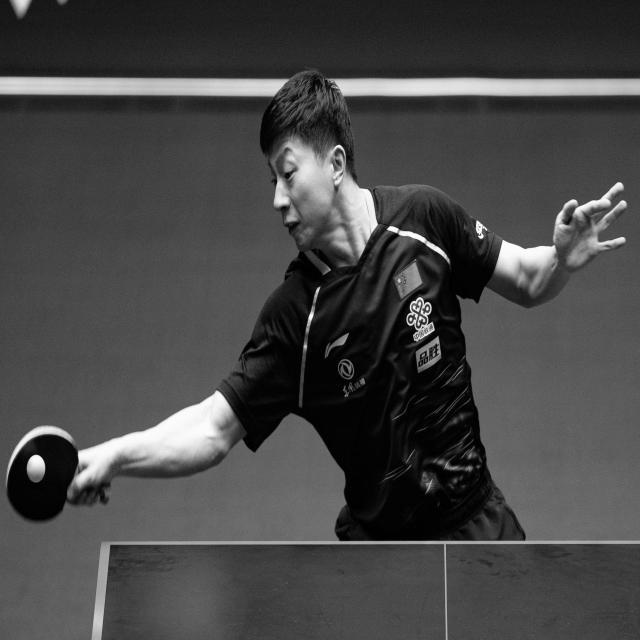ping-pong-ball: (24, 452, 45, 482)
